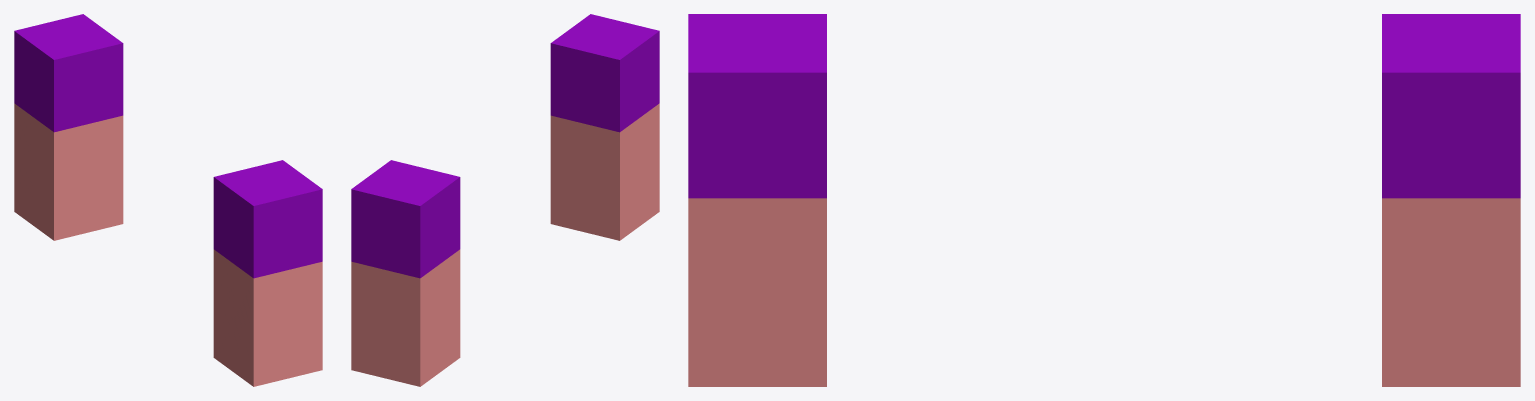
The model's file is perso1b-1.obj.
3 renders of one model, left to right at view 1: azimuth 30°, elevation 25°; view 2: azimuth 150°, elevation 25°; view 3: azimuth 270°, elevation 25°, orthographic. The views are drawn at different scales.
Bounding box in the file's own units: 0.2 × 0.5 × 1.2.
Materials: 1 (1 with a texture image).
